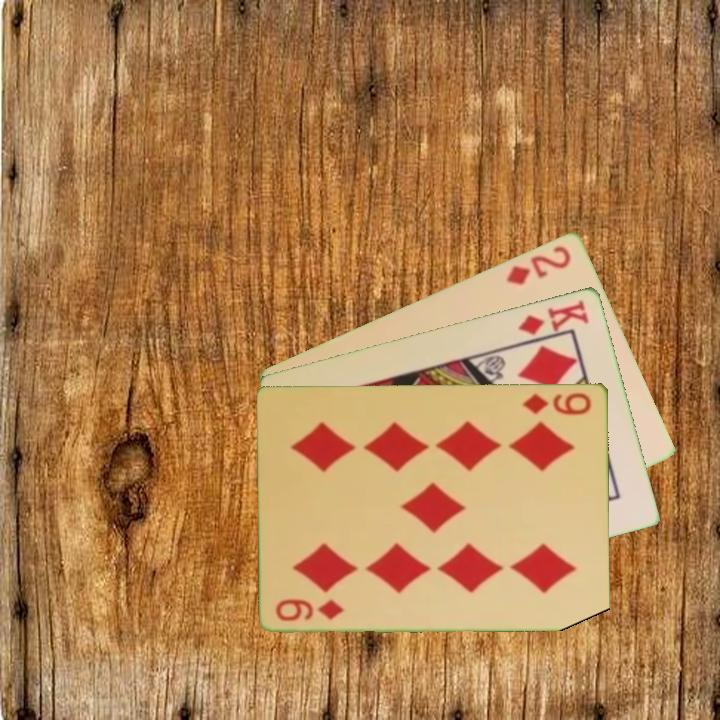2d: (503, 241, 574, 287)
9d: (520, 389, 594, 418), (273, 595, 347, 623)
Kd: (515, 295, 592, 337)
